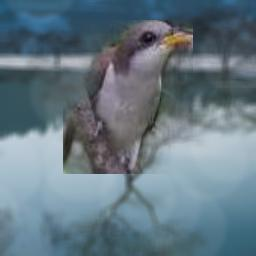Cuckoo: (63, 20, 193, 174)
